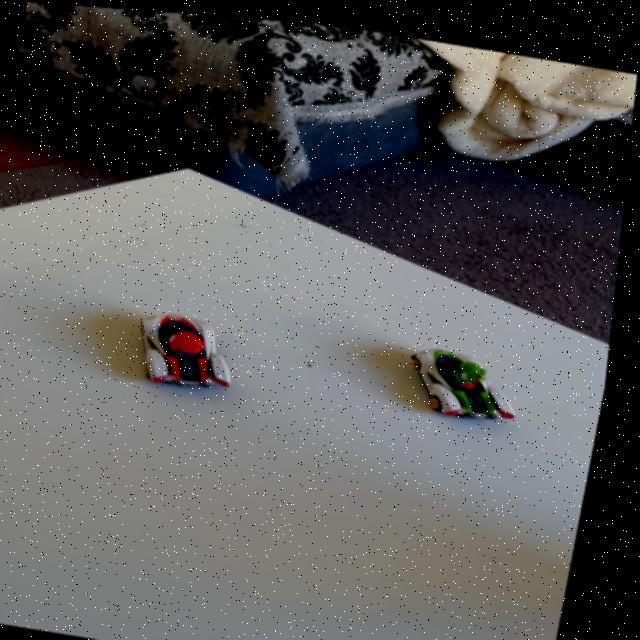mario: (111, 289, 269, 405)
yoshi: (389, 327, 539, 426)
